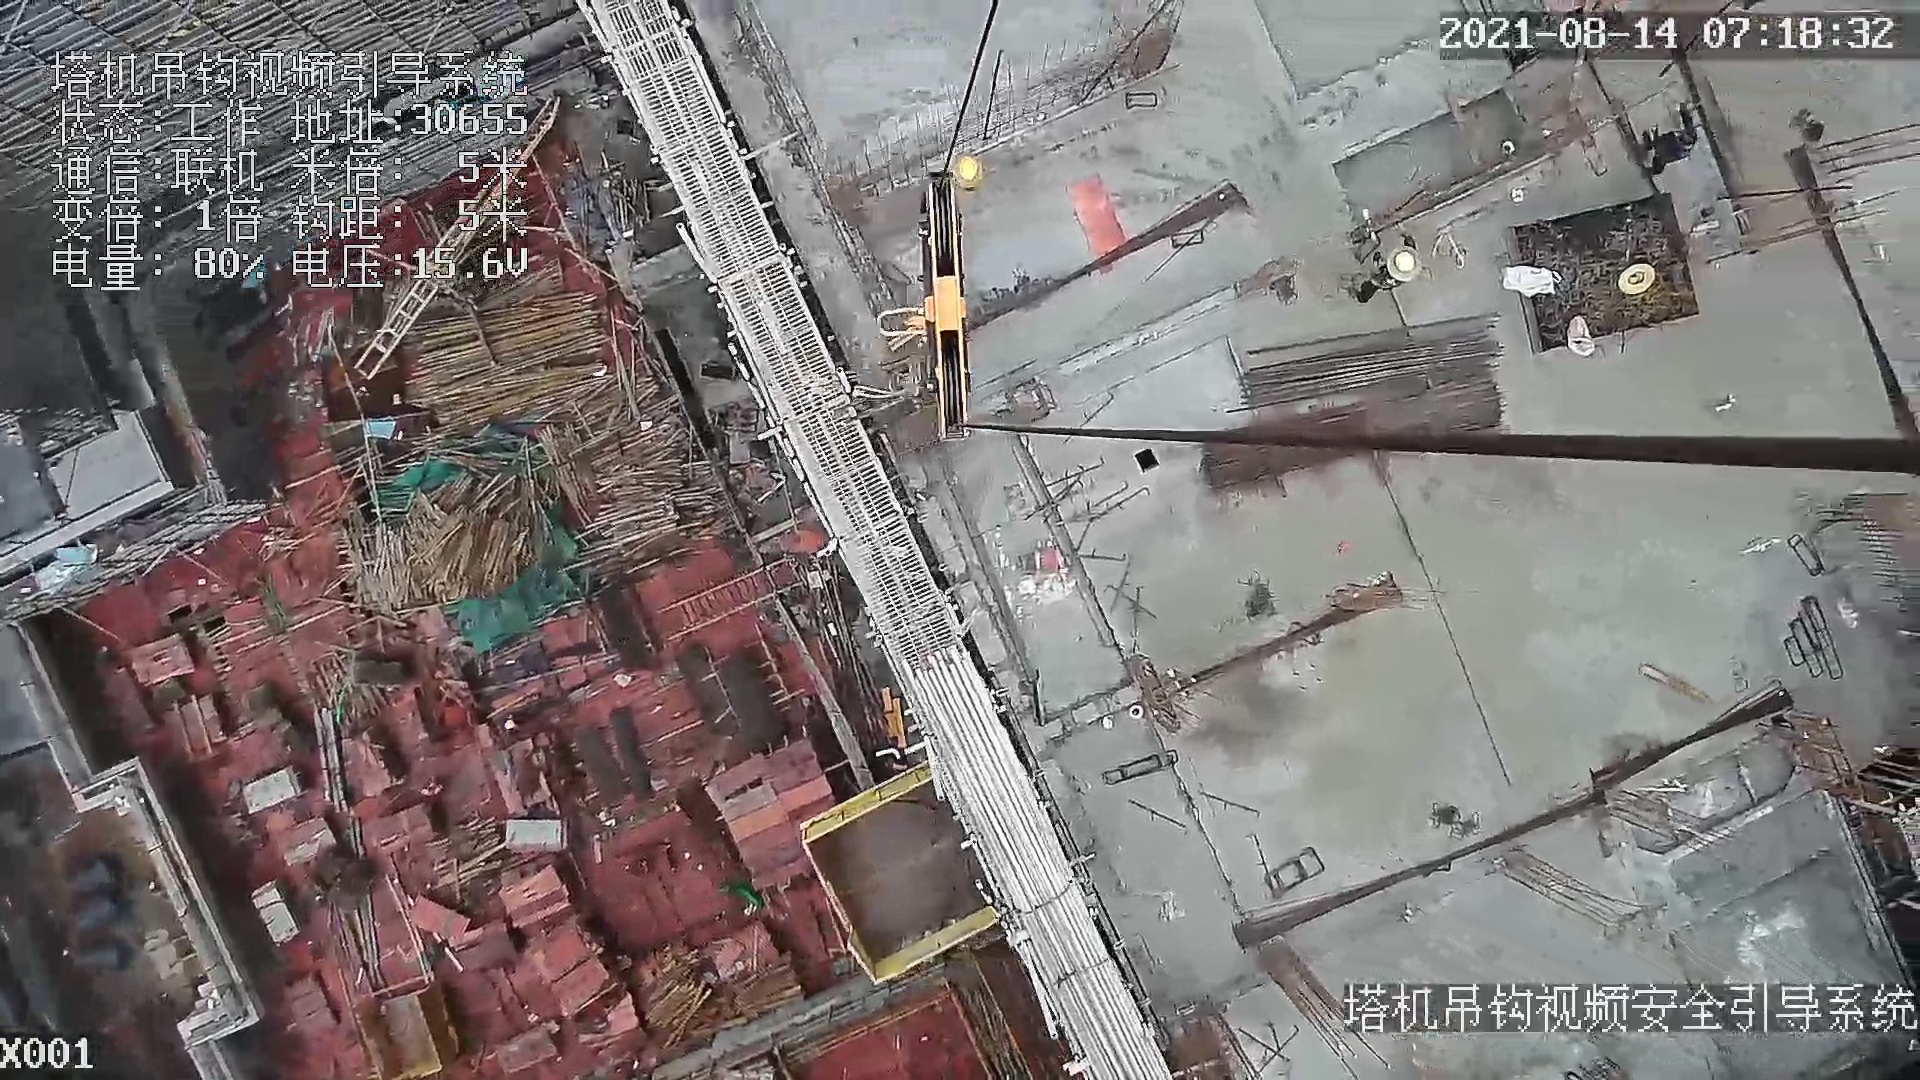helmet: (1393, 248, 1415, 275)
hook: (873, 168, 979, 445)
person: (1349, 224, 1422, 305)
